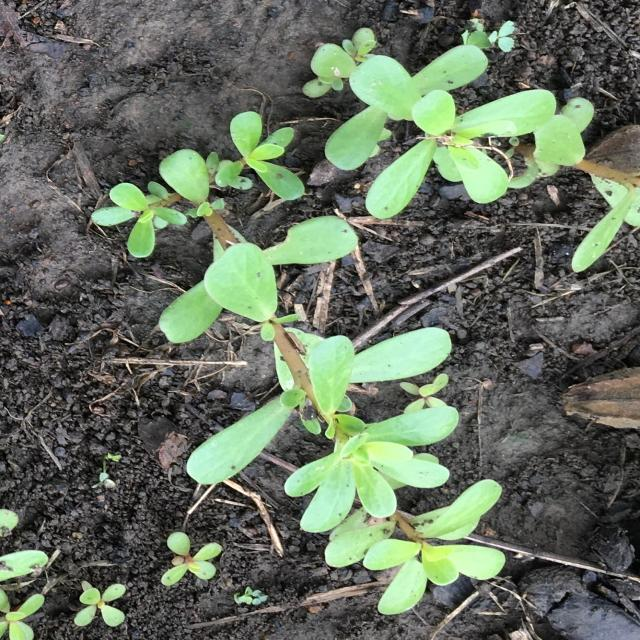Purslane: (92, 111, 507, 615), (303, 28, 640, 272), (0, 549, 48, 640), (161, 532, 223, 587), (74, 584, 126, 627)
